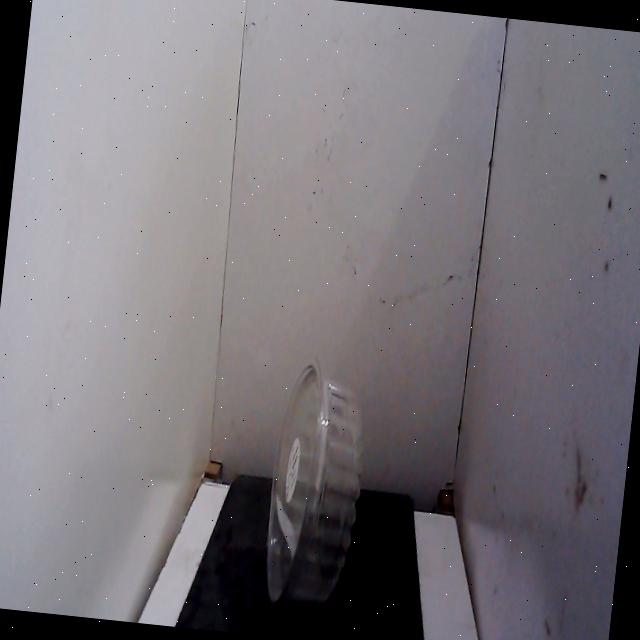plastico: (248, 345, 382, 628)
